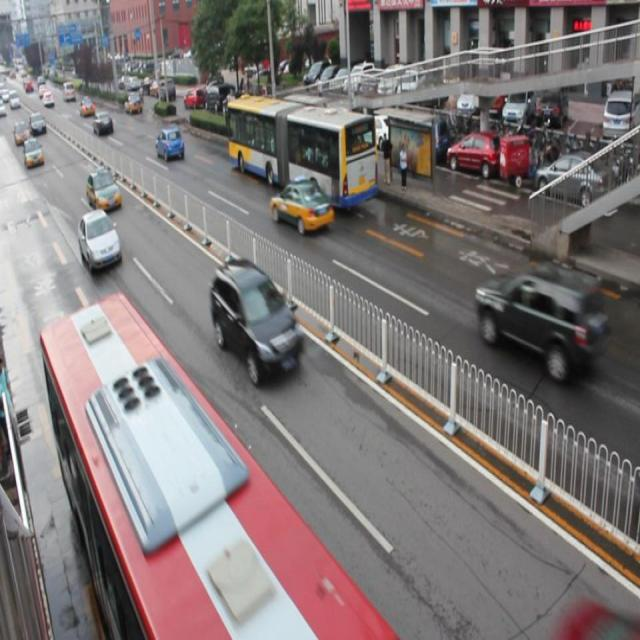car: (474, 260, 608, 384), (209, 259, 304, 383), (270, 178, 333, 235), (78, 209, 121, 271), (87, 166, 122, 212), (155, 128, 184, 160)
van: (38, 292, 392, 640), (225, 91, 378, 211)
